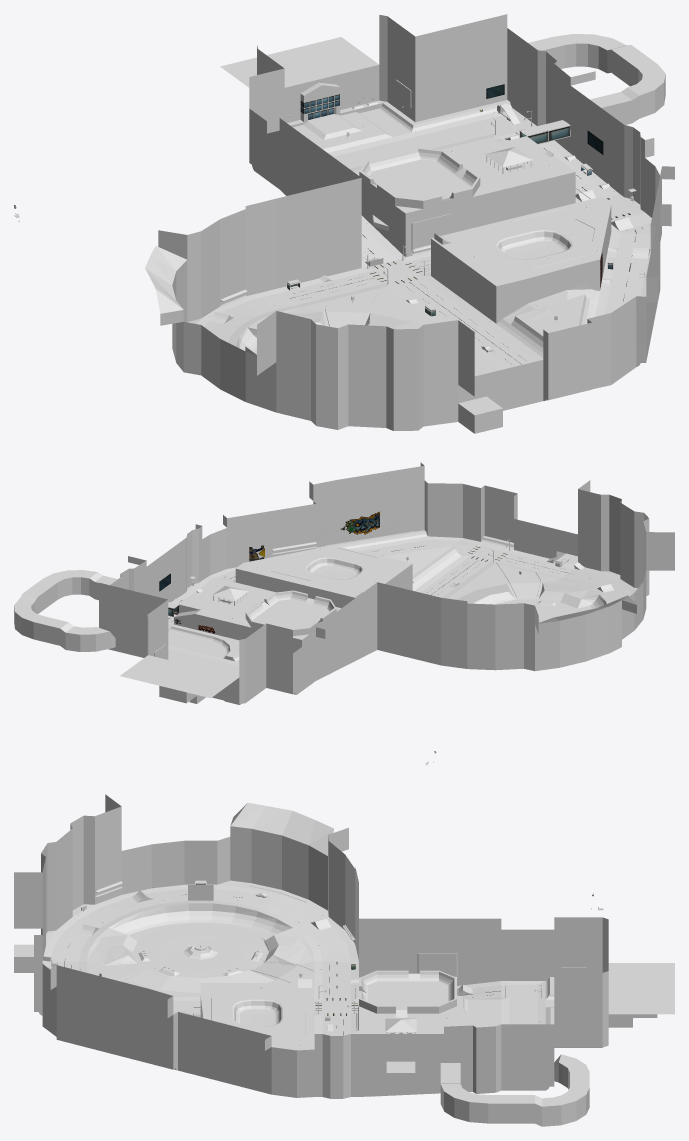
Rendered from skdown.glb.
The picture shows the model from 3 angles, top to bottom: view 1: azimuth 30°, elevation 25°; view 2: azimuth 150°, elevation 25°; view 3: azimuth 270°, elevation 25°; orthographic projection. The views are drawn at different scales.
Parts seen in each view (by area): view 1: SKDOWN_Col_Ride, SKDOWN_Col_Floor, SKDOWN_Col_Pipe, SKDOWN_Col_Wall; view 2: SKDOWN_Col_Ride, SKDOWN_Col_Floor, SKDOWN_Col_Pipe, SKDOWN_Col_Wall, SKDOWN_Mesh_05; view 3: SKDOWN_Col_Ride, SKDOWN_Col_Floor, SKDOWN_Col_Pipe, SKDOWN_Col_Wall.
Part boxes in pixels (x1=…): SKDOWN_Col_Ride: x1=158, y1=14, x2=674, y2=433; SKDOWN_Col_Floor: x1=14, y1=34, x2=665, y2=427; SKDOWN_Col_Pipe: x1=221, y1=100, x2=646, y2=400; SKDOWN_Col_Wall: x1=14, y1=83, x2=656, y2=352; SKDOWN_Col_Ride: x1=14, y1=462, x2=674, y2=704; SKDOWN_Col_Floor: x1=14, y1=531, x2=644, y2=764; SKDOWN_Col_Pipe: x1=168, y1=530, x2=619, y2=694; SKDOWN_Col_Wall: x1=159, y1=508, x2=569, y2=764; SKDOWN_Mesh_05: x1=341, y1=511, x2=379, y2=534; SKDOWN_Col_Ride: x1=14, y1=794, x2=657, y2=1126; SKDOWN_Col_Floor: x1=14, y1=802, x2=674, y2=1106; SKDOWN_Col_Pipe: x1=96, y1=894, x2=602, y2=1070; SKDOWN_Col_Wall: x1=49, y1=883, x2=592, y2=1090.
Size of the model in its own units: 241 by 41.17 by 246.
25 materials, 23 textured.
